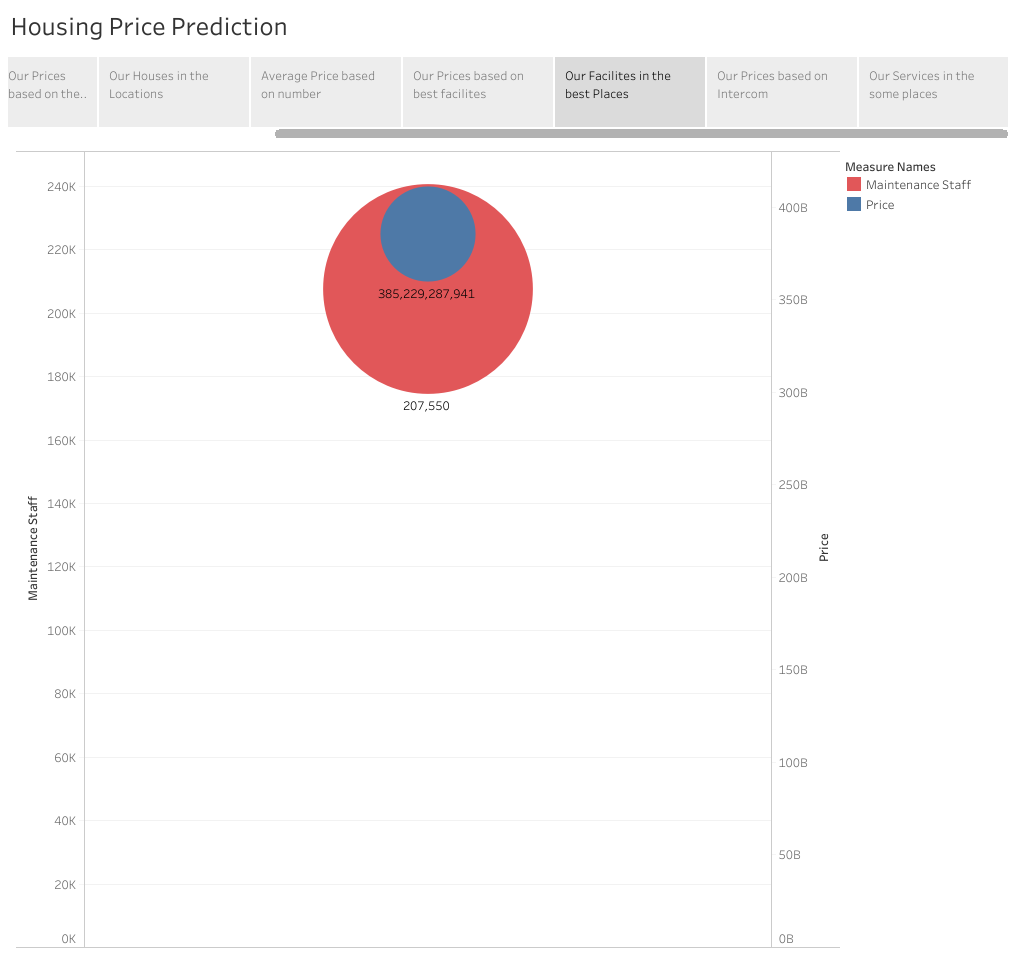

The dashboard page shown, as its layout file describes it:
{"tool":"tableau","page":{"name":"Dashboard 2","canvas":[1000,800],"ordinal":1},"visuals":[{"type":"worksheet","title":"Sheet 2","mark":"Automatic","rows":["Area"],"cols":["Price"],"box":[8,8,412,392]},{"type":"worksheet","title":"Sheet 4","mark":"Automatic","box":[420,8,412,392]},{"type":"legend","title":"Sheet 3","param":"[federated.051ejo61k5k1d71gc72n81ba1xm3].[:Measure Names]","box":[832,8,160,66]},{"type":"legend","title":"Sheet 4","param":"[federated.051ejo61k5k1d71gc72n81ba1xm3].[sum:VaastuCompliant:qk]","box":[832,74,160,65]},{"type":"dashboard-object","box":[832,139,160,52]},{"type":"dashboard-object","box":[832,191,160,52]},{"type":"worksheet","title":"Sheet 3","mark":"Circle","rows":["Price","RainWaterHarvesting"],"cols":["Location"],"box":[8,400,824,392]}]}

Visuals, with their boxes on the page's 1000x800 design canvas (x1, y1, x2, y2). These are canvas units, not pixel positions in the 1015x963 screenshot, which may show the page scaled, cropped or inside an application window:
"Sheet 2" worksheet: 8 8 420 400
"Sheet 4" worksheet: 420 8 832 400
"Sheet 3" legend: 832 8 992 74
"Sheet 4" legend: 832 74 992 139
dashboard-object: 832 139 992 191
dashboard-object: 832 191 992 243
"Sheet 3" worksheet (Circle marks): 8 400 832 792
